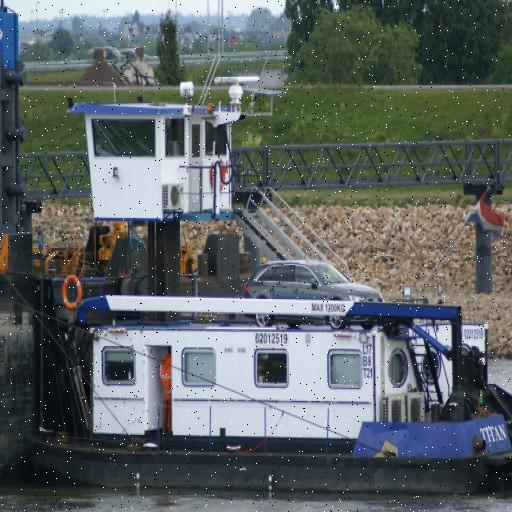tugboat: (22, 50, 512, 507)
